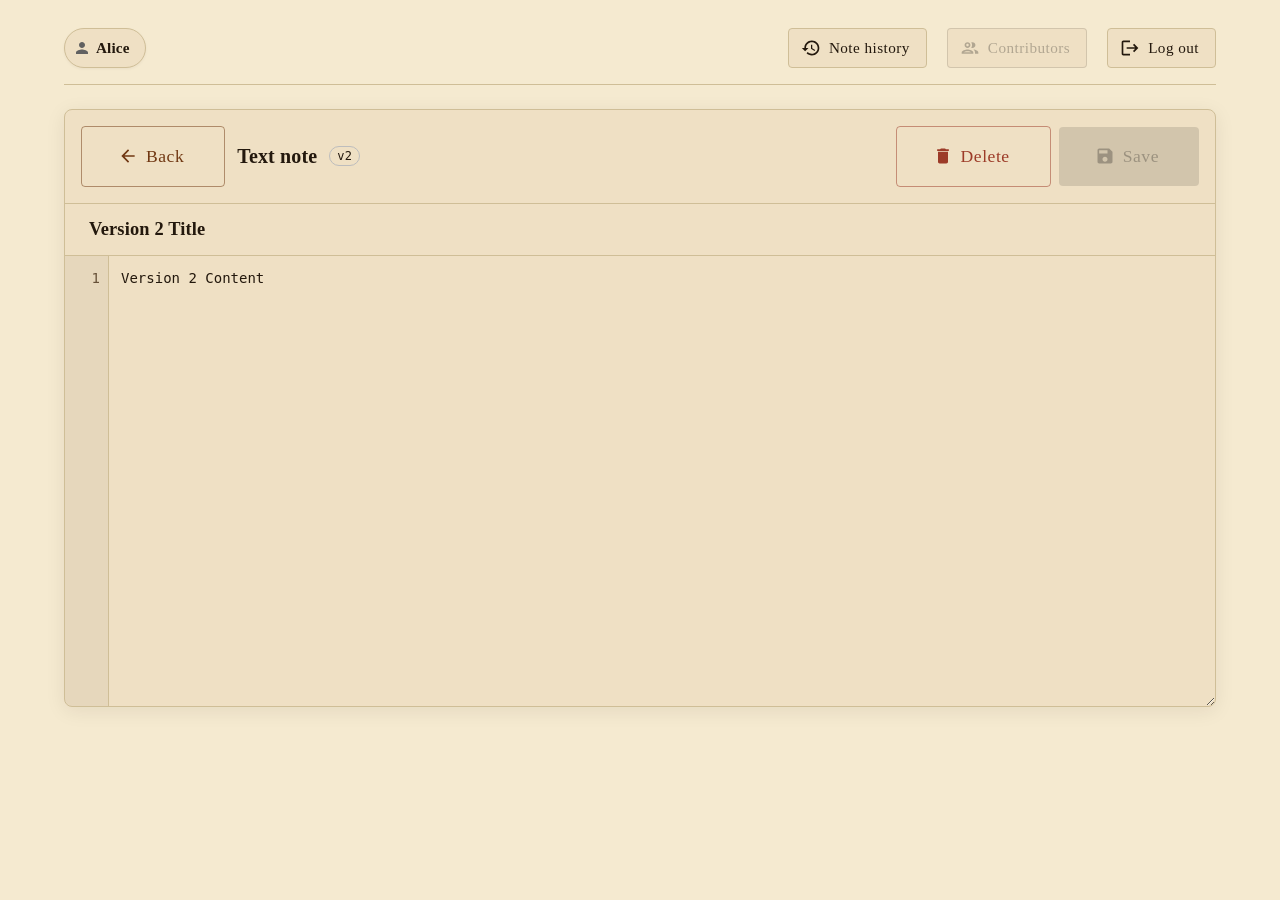
Test case: NoteEditor Client Component › Version history drawer integration › handles version conflict error during restoration
This screenshot has width=1280, height=900.
// Open history & select v1
Click the button "Note history" at (857, 48), box top-left (788, 28), bottom-right (927, 68)
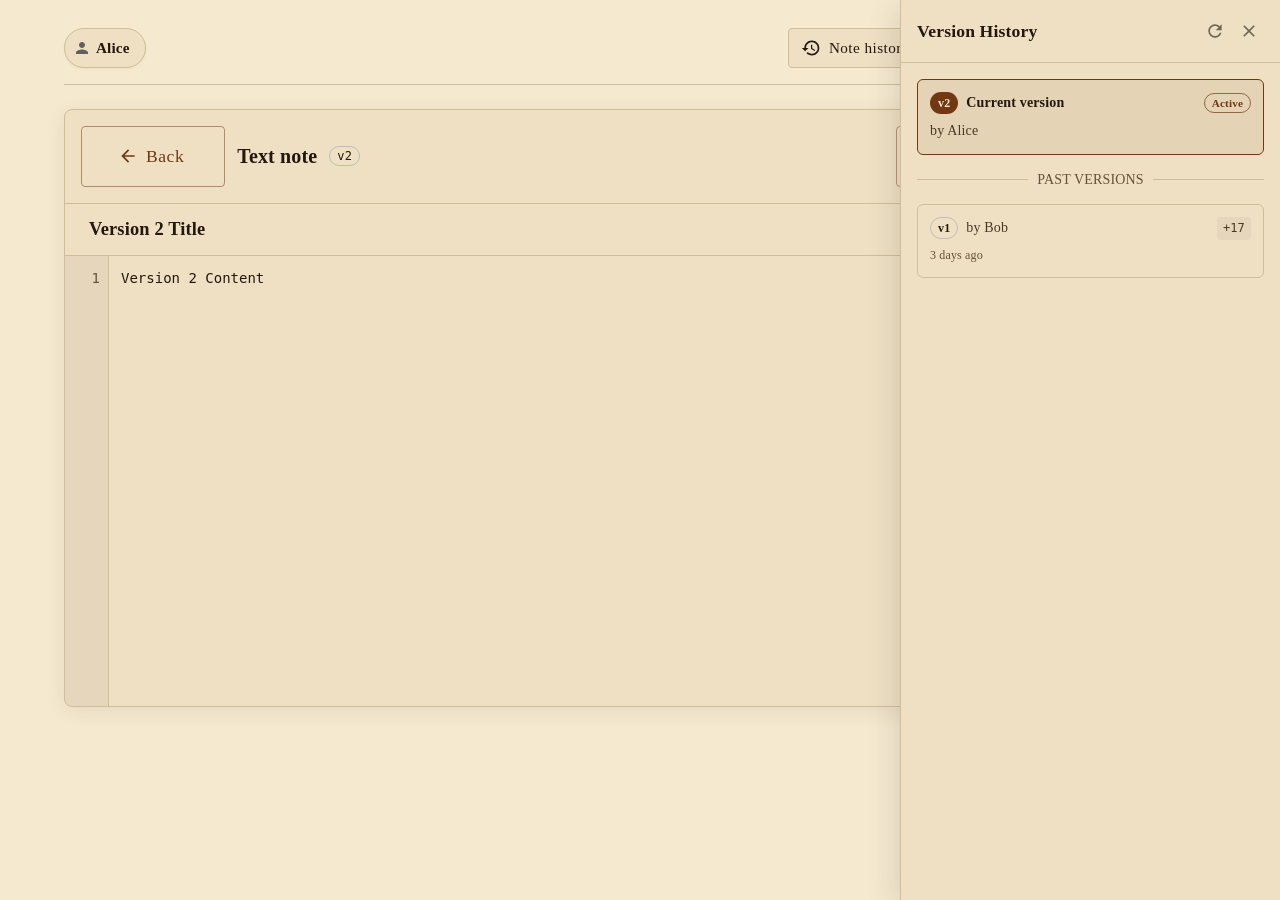
Expected: the text "by Bob" is shown, top-left (966, 217), bottom-right (1008, 240)
Click the button "by Bob" at (1234, 228), box top-left (917, 204), bottom-right (1264, 278)
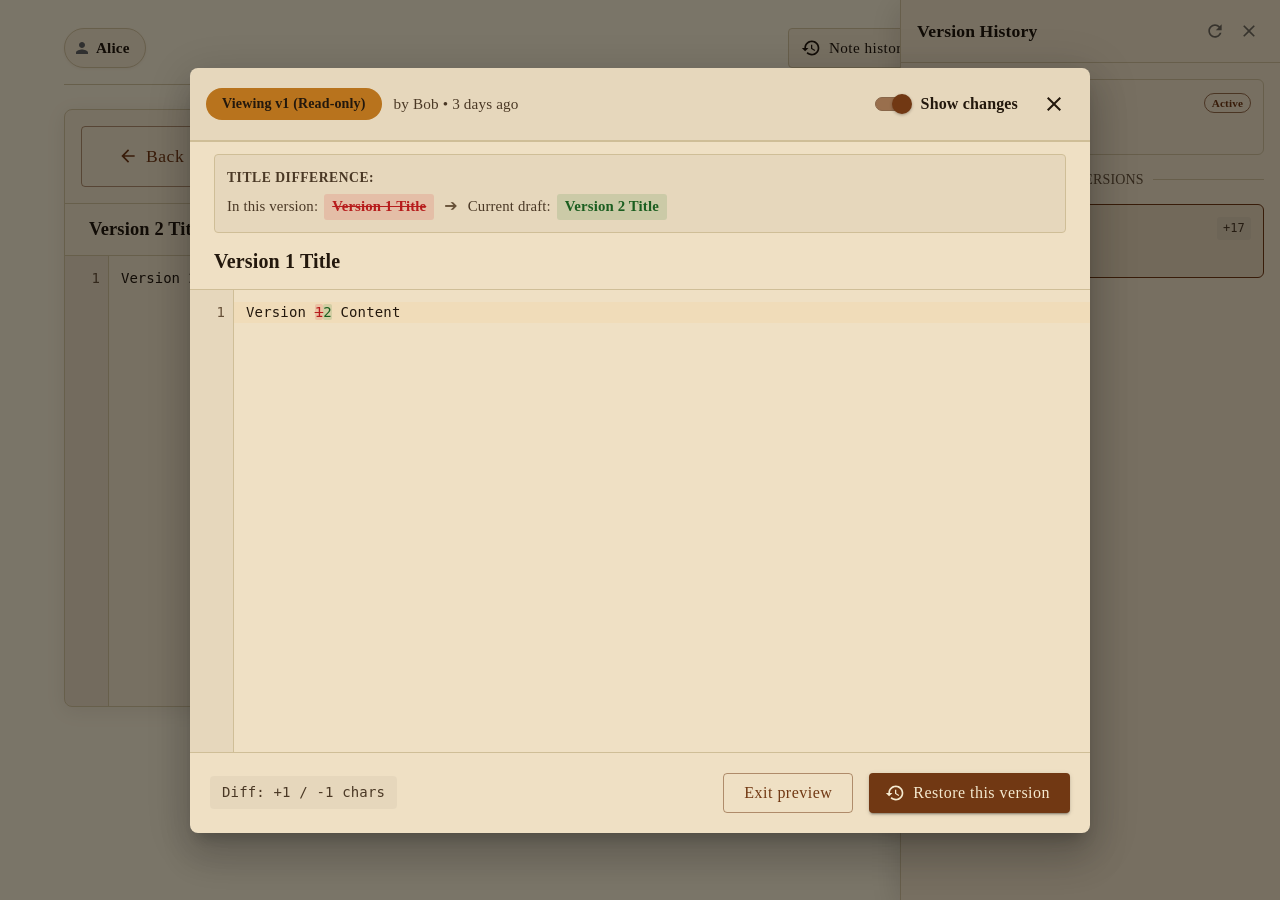
Expected: the dialog is shown, top-left (190, 68), bottom-right (1090, 832)
Click the button "Restore this version" at (970, 792), box top-left (869, 772), bottom-right (1070, 812)
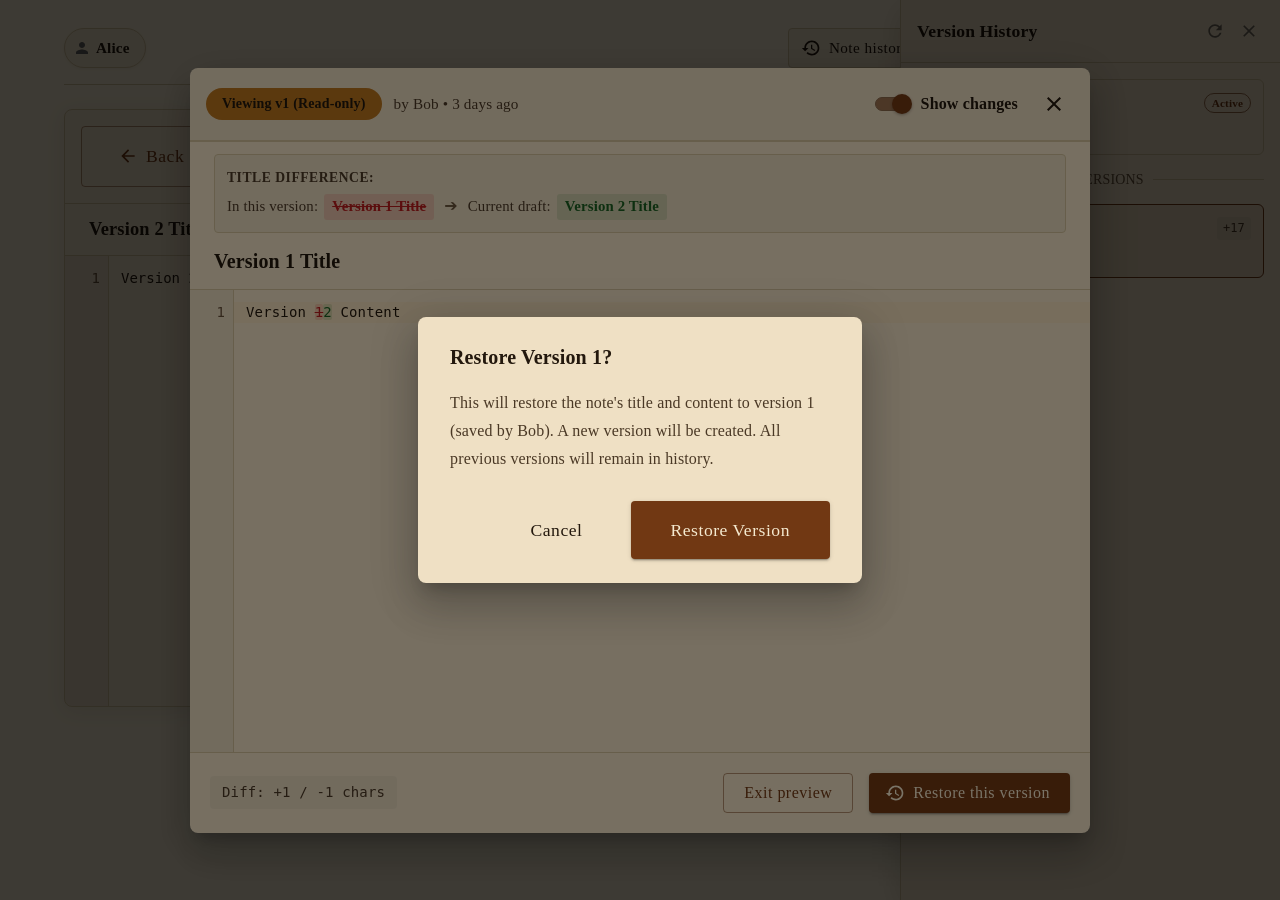
Click the button "Restore Version" at (730, 530), box top-left (630, 501), bottom-right (830, 559)
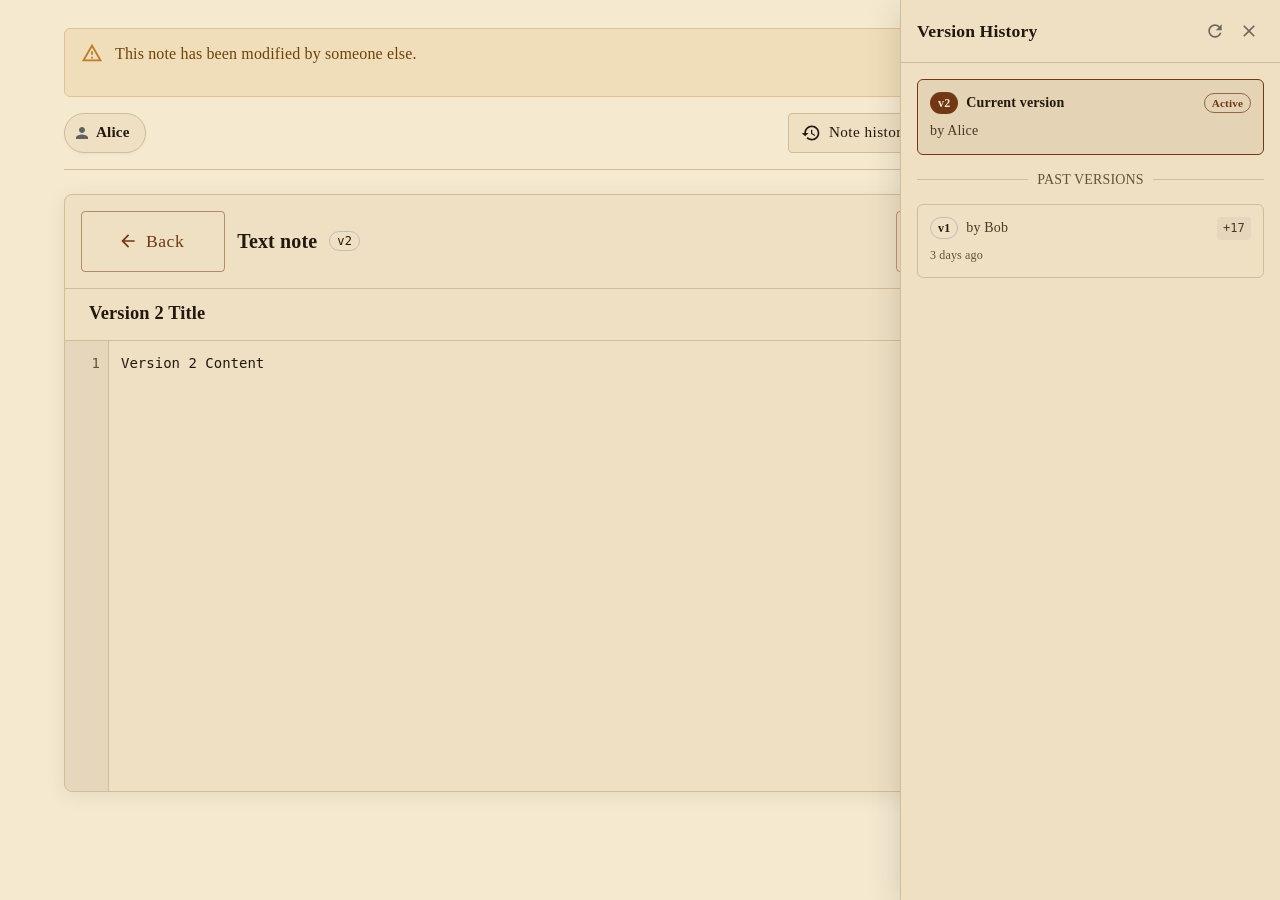
Expected: the heading "Restore Version 1?" is gone
Expected: the text "This note has been modified by someone else." is shown, top-left (115, 45), bottom-right (417, 62)
Expected: the button "Reload" is shown, top-left (1088, 39), bottom-right (1207, 90)
